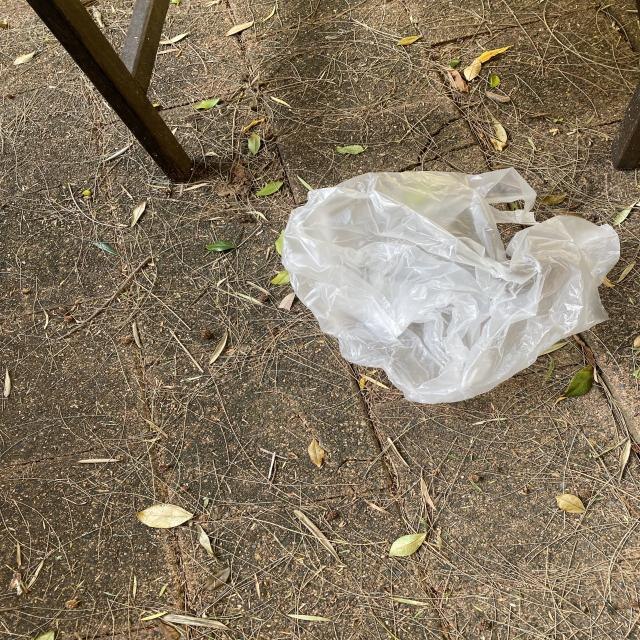bag: (282, 168, 620, 405)
